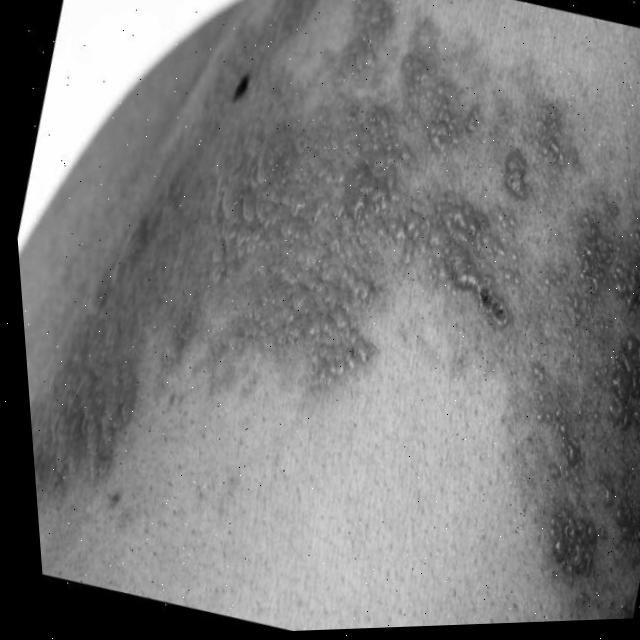Shingles: (43, 0, 640, 576)
